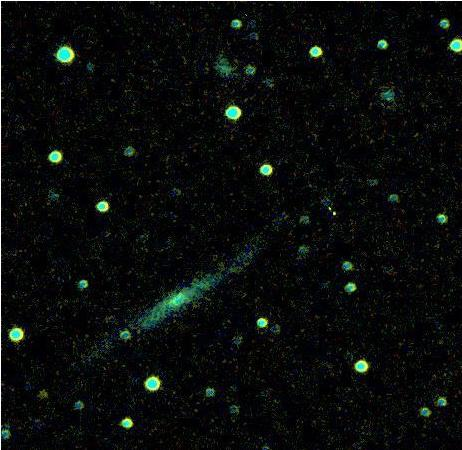star: (27, 377, 57, 407)
